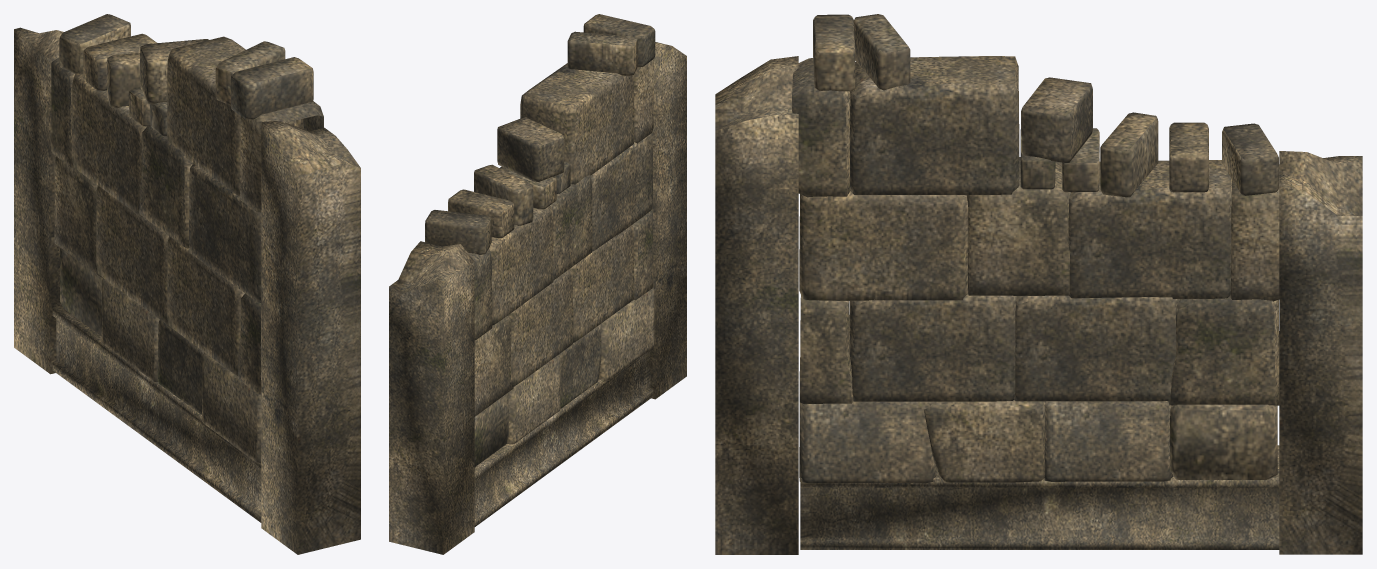
The model's file is WallHalf.fbx.
The picture shows the model from 3 angles, left to right: view 1: azimuth 30°, elevation 25°; view 2: azimuth 150°, elevation 25°; view 3: azimuth 270°, elevation 25°; orthographic projection. The views are drawn at different scales.
Parts seen in each view (by area): view 1: SM_BRL_TPL_WallHalfA_01.mo; view 2: SM_BRL_TPL_WallHalfA_01.mo; view 3: SM_BRL_TPL_WallHalfA_01.mo.
Part boxes in pixels (x1,y1,x2,y2): SM_BRL_TPL_WallHalfA_01.mo: (14,14,360,554); SM_BRL_TPL_WallHalfA_01.mo: (389,14,686,554); SM_BRL_TPL_WallHalfA_01.mo: (715,14,1362,554).
Bounding box in the file's own units: 43.3 × 229 × 268.
